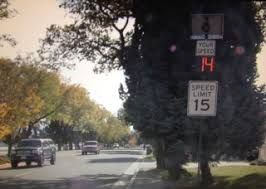speedLimit15: (187, 80, 217, 117)
